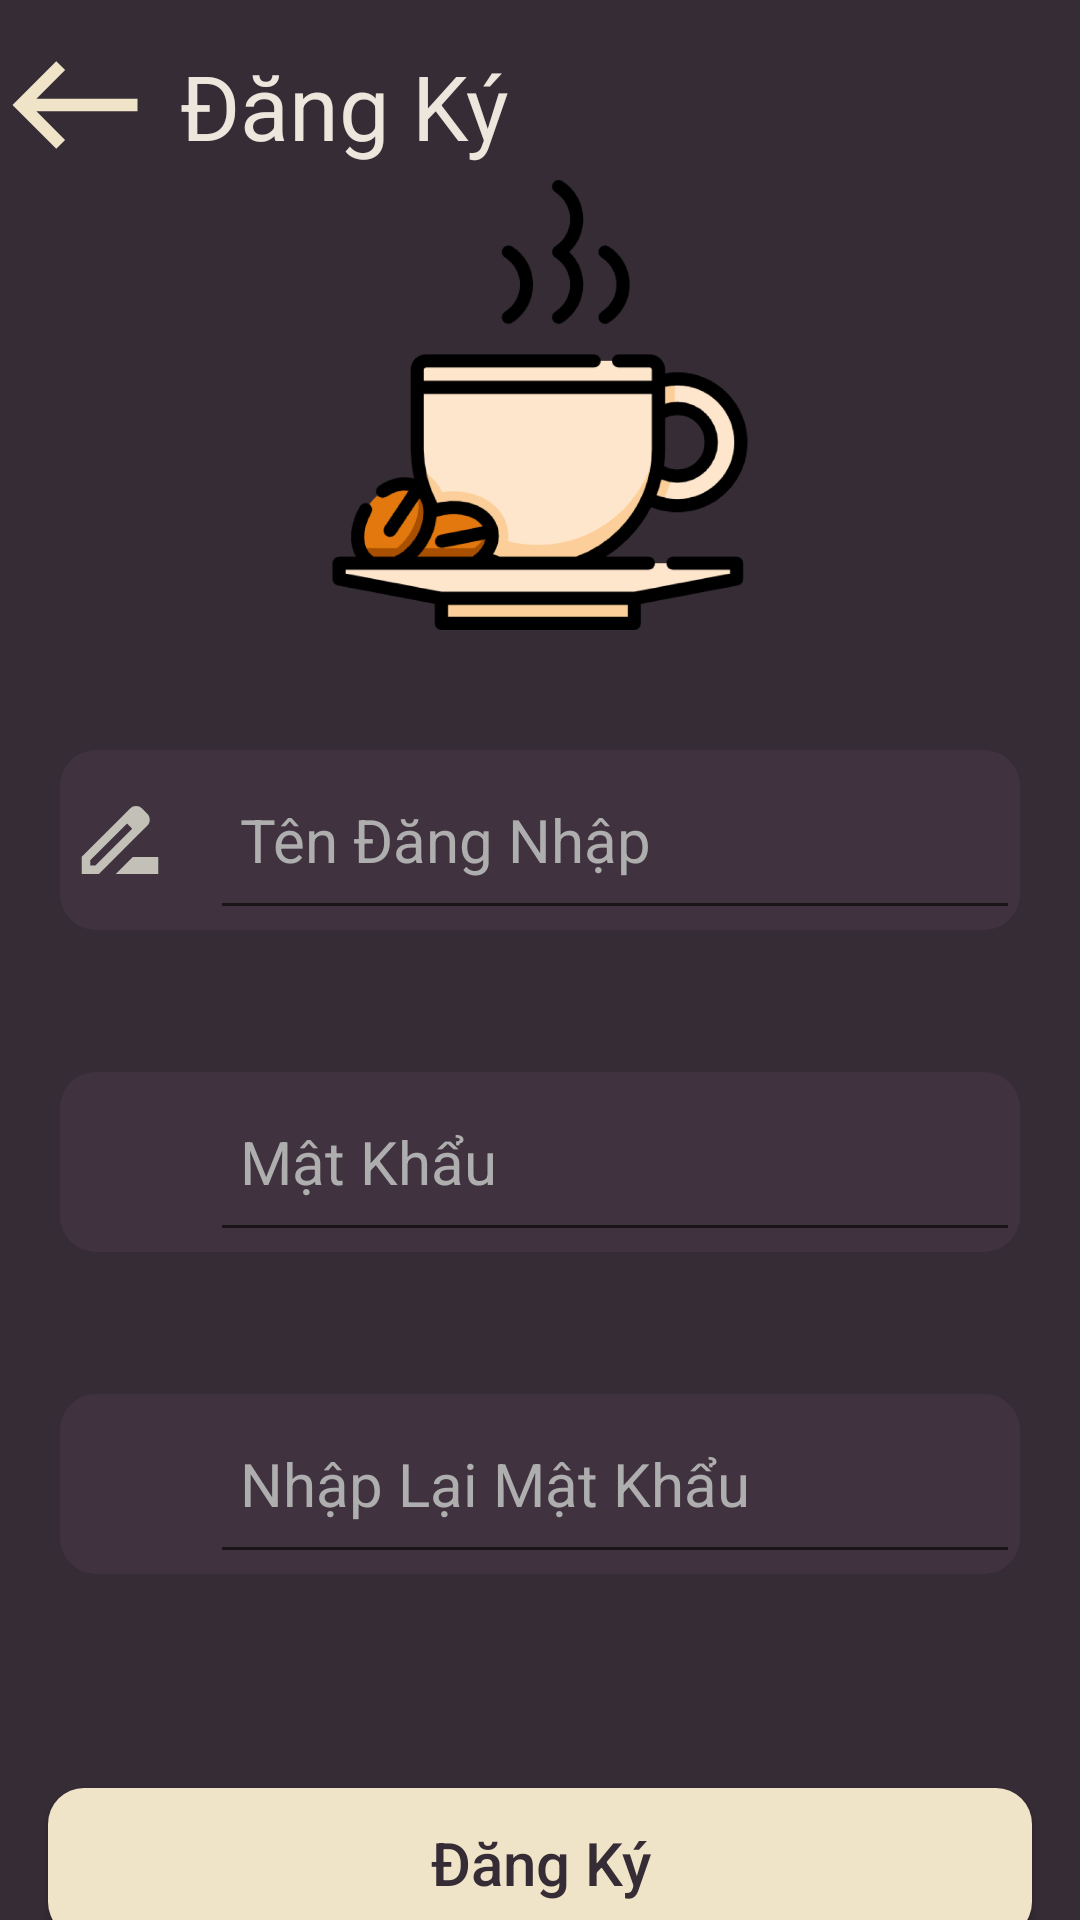

Screen size 1080*1920. Icon name, then its center in pixels as (x=x, y=y):
drive file rename: (x=120, y=840)
west: (x=75, y=105)
